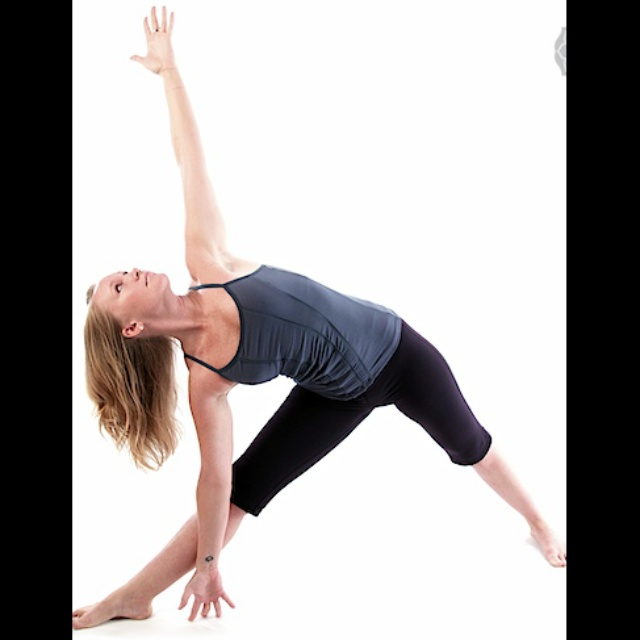Triangle_Pose: (72, 1, 567, 636)
